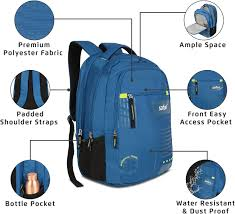backpack: (66, 40, 173, 187)
